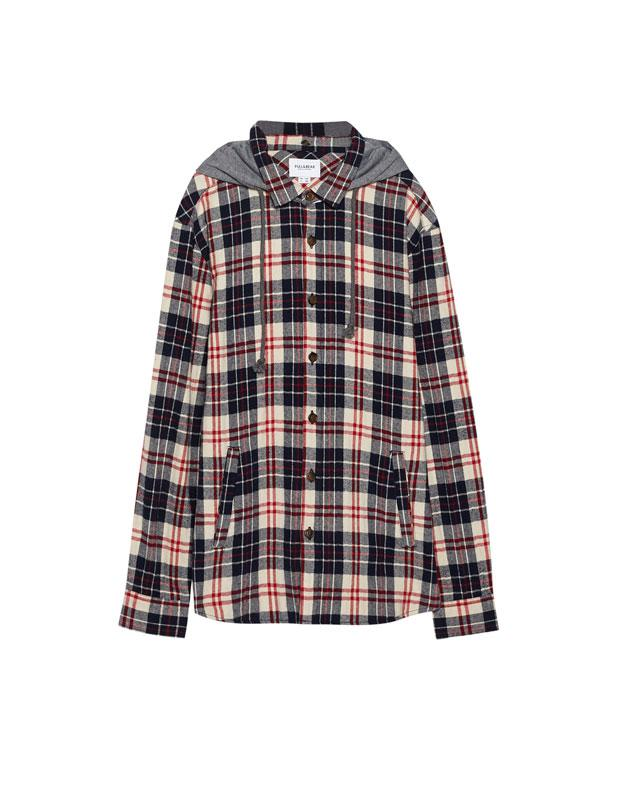teeshirt: (118, 112, 505, 673)
